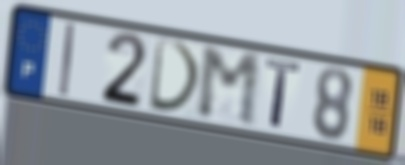2: (101, 30, 150, 112)
8: (311, 65, 355, 144)
D: (146, 34, 204, 116)
I: (57, 20, 78, 100)
M: (196, 45, 263, 131)
T: (264, 56, 304, 133)
